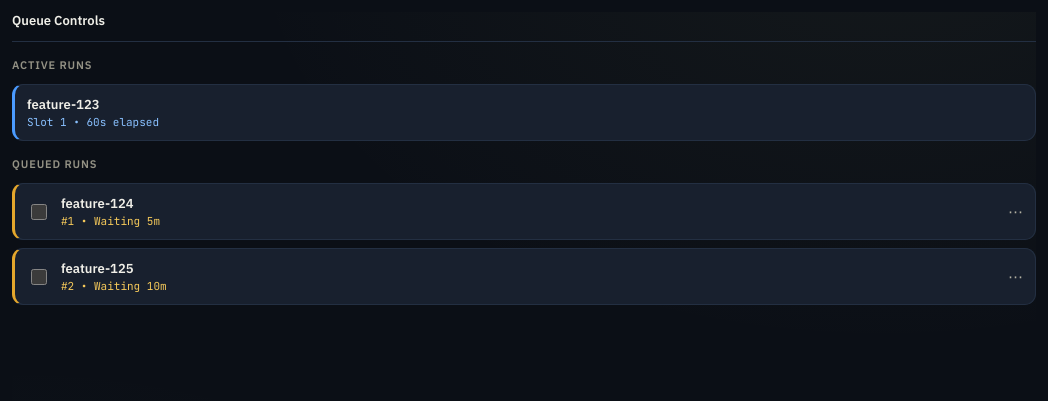
QueueAdvancedControls › Run Selection › toggles run selection with checkbox
Click the checkbox named "Select feature-124". click: (39, 212)
box: x1=31 y1=204 x2=47 y2=220
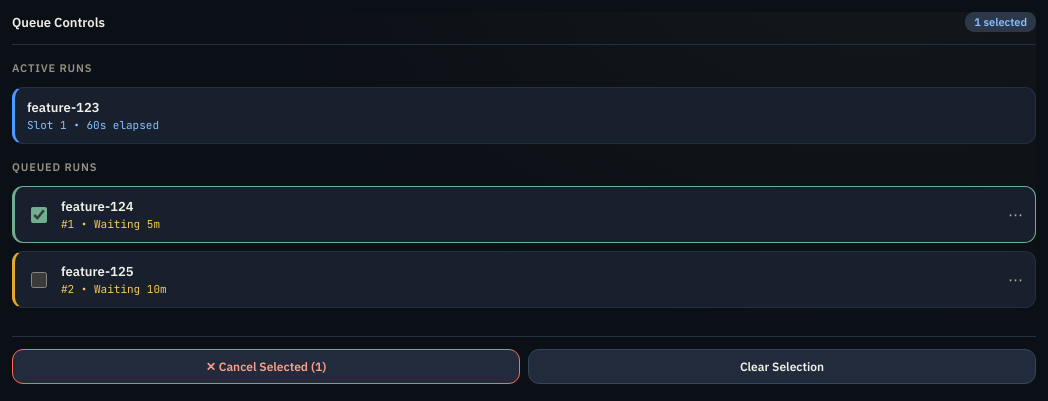
Expected: the text "1 selected" is shown, x1=965 y1=12 x2=1036 y2=32
